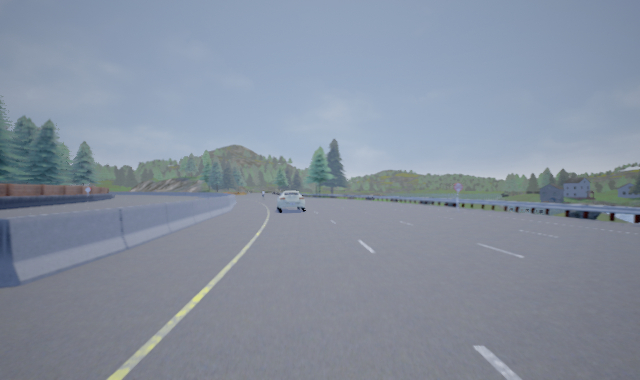traffic_sign: (454, 181, 464, 192)
vehicle: (275, 190, 306, 213)
